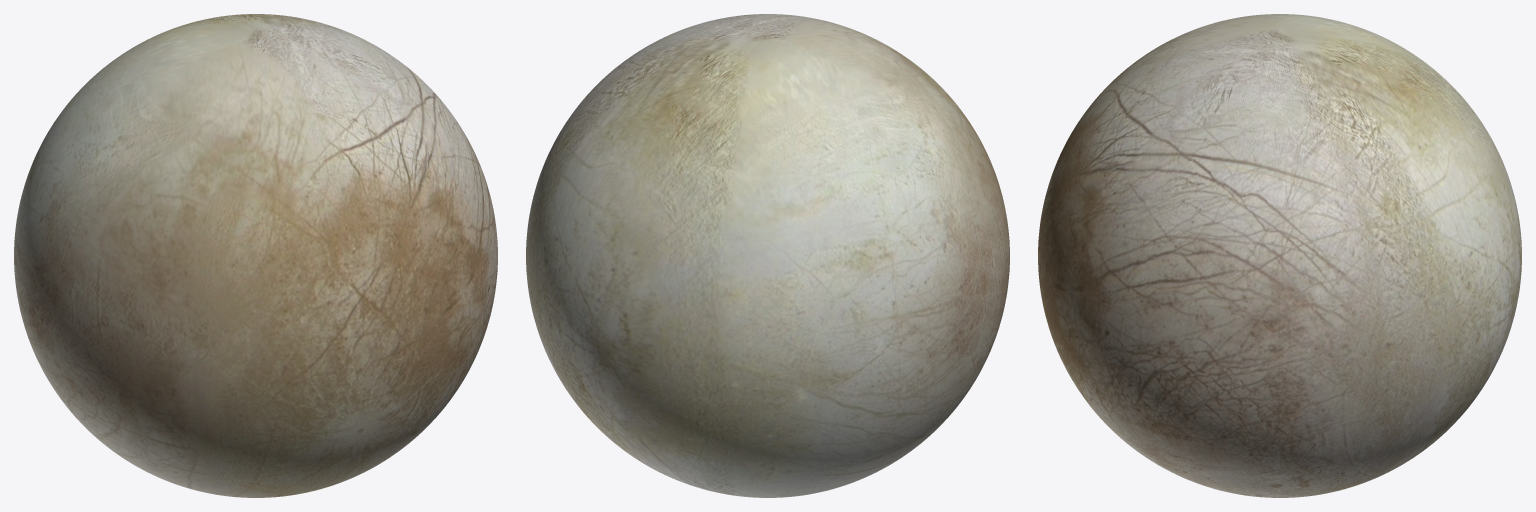
Rendered from europa.glb.
3 views of the same model, side by side, from view 1: azimuth 30°, elevation 25°; view 2: azimuth 150°, elevation 25°; view 3: azimuth 270°, elevation 25° (orthographic).
Parts seen in each view (by area): view 1: Geode; view 2: Geode; view 3: Geode.
Part boxes in pixels (x1=…): Geode: x1=14, y1=14, x2=497, y2=497; Geode: x1=526, y1=14, x2=1009, y2=497; Geode: x1=1038, y1=14, x2=1521, y2=497.
Bounding box in the file's own units: 200 × 200 × 200.
Materials: 1 (1 with a texture image).
